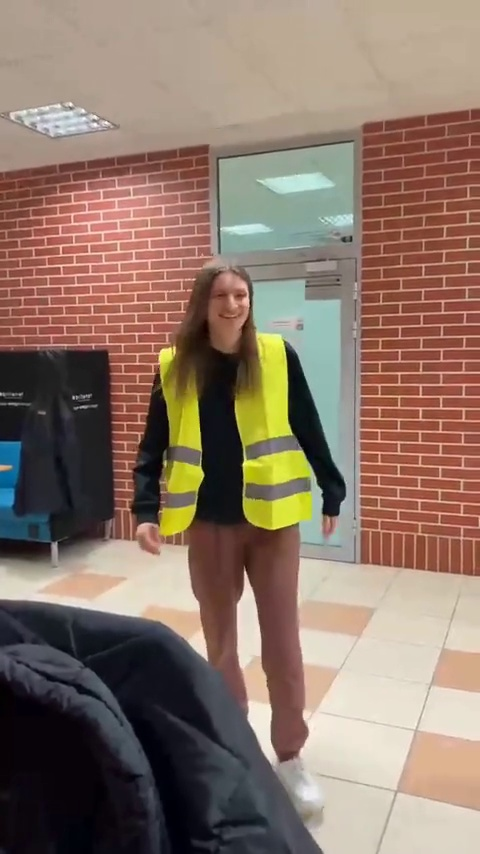vest: (145, 267, 335, 752)
